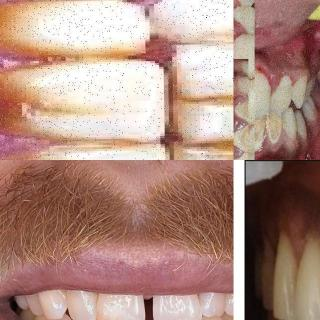Gum Swelling: (0, 0, 33, 160), (256, 62, 300, 92)
calculus: (265, 113, 283, 149), (234, 97, 250, 125), (255, 116, 264, 156), (234, 127, 248, 151), (234, 2, 244, 30)
plaque: (254, 72, 273, 108), (272, 78, 293, 104)
stains: (0, 74, 96, 138), (0, 4, 59, 55), (186, 97, 192, 103)
